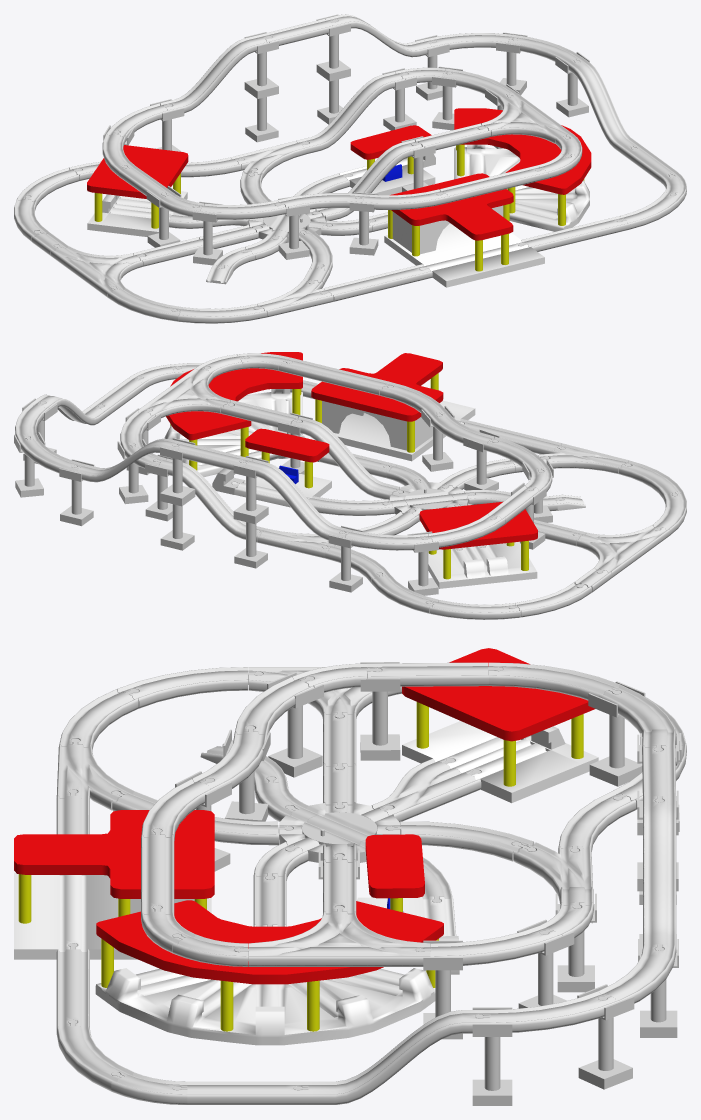
The model's file is CompleteTrack4.fbx.
3 renders of one model, top to bottom at view 1: azimuth 30°, elevation 25°; view 2: azimuth 150°, elevation 25°; view 3: azimuth 270°, elevation 25°, orthographic. The views are drawn at different scales.
Parts seen in each view (by area): view 1: Train_Station_Large_Parts_low.001, Train_Station_Large_low.001, Train_Shed_Parts_low.001, Train_Shed_low.001, Train_Garage_Parts_low.001, T_Switch_Track_A_low.001, T_Switch_Track_A_low.002, Train_Garage_low.001, Ascending_Track_low.002, Ascending_Track_low.003, Ascending_Track_low.004, Ascending_Track_low.001 (+57 smaller); view 2: Train_Shed_Parts_low.001, Train_Station_Large_Parts_low.001, Train_Garage_low.001, Train_Garage_Parts_low.001, Train_Shed_low.001, T_Switch_Track_A_low.001, Train_Station_Large_low.001, T_Switch_Track_A_low.002, Train_Station_Small_Parts_low.001, Ascending_Track_low.001, Ascending_Track_low.004, Ascending_Track_low.003 (+56 smaller); view 3: Train_Shed_low.001, Train_Shed_Parts_low.001, Train_Station_Large_Parts_low.001, Train_Garage_Parts_low.001, Train_Garage_low.001, Train_Station_Large_low.001, T_Switch_Track_A_low.002, Ascending_Track_low.005, Ascending_Track_low.002, Train_Station_Small_Parts_low.001, Parallel_Switch_Track_B_low.001, Curved_Track_low.001 (+49 smaller).
Boxes of the visible parts, x1,y1,x2,y2 form: Train_Station_Large_Parts_low.001: (388, 173, 513, 271); Train_Station_Large_low.001: (384, 223, 544, 287); Train_Shed_Parts_low.001: (454, 108, 591, 225); Train_Shed_low.001: (454, 144, 589, 231); Train_Garage_Parts_low.001: (87, 145, 188, 228); T_Switch_Track_A_low.001: (51, 244, 145, 297); T_Switch_Track_A_low.002: (478, 92, 572, 143); Train_Garage_low.001: (87, 191, 187, 236); Ascending_Track_low.002: (565, 57, 638, 154); Ascending_Track_low.003: (296, 72, 408, 154); Ascending_Track_low.004: (160, 35, 272, 113); Ascending_Track_low.001: (312, 139, 424, 221); Train_Shed_Parts_low.001: (166, 352, 302, 470); Train_Station_Large_Parts_low.001: (311, 353, 443, 452); Train_Garage_low.001: (428, 541, 537, 588); Train_Garage_Parts_low.001: (419, 501, 537, 579); Train_Shed_low.001: (164, 389, 319, 477); T_Switch_Track_A_low.001: (573, 525, 670, 577); Train_Station_Large_low.001: (334, 400, 475, 461); T_Switch_Track_A_low.002: (138, 366, 233, 418); Train_Station_Small_Parts_low.001: (245, 428, 329, 488); Ascending_Track_low.001: (289, 416, 403, 500); Ascending_Track_low.004: (239, 459, 352, 540); Ascending_Track_low.003: (153, 458, 266, 542); Train_Shed_low.001: (95, 925, 435, 1045); Train_Shed_Parts_low.001: (96, 900, 443, 1031); Train_Station_Large_Parts_low.001: (14, 810, 214, 923); Train_Garage_Parts_low.001: (402, 648, 594, 786); Train_Garage_low.001: (402, 721, 598, 803); Train_Station_Large_low.001: (14, 872, 211, 959); T_Switch_Track_A_low.002: (235, 905, 430, 966); Ascending_Track_low.005: (643, 796, 676, 950); Ascending_Track_low.002: (293, 1010, 489, 1104); Train_Station_Small_Parts_low.001: (365, 834, 424, 912); Parallel_Switch_Track_B_low.001: (371, 758, 481, 822); Curved_Track_low.001: (117, 667, 263, 708).
Size of the model in its own units: 129 by 21.45 by 85.15.
